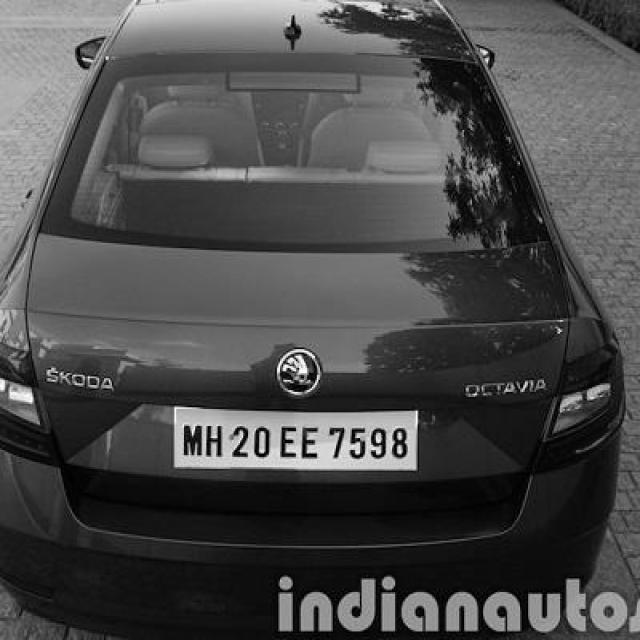car: (0, 0, 640, 637)
license-plate: (170, 399, 422, 474)
